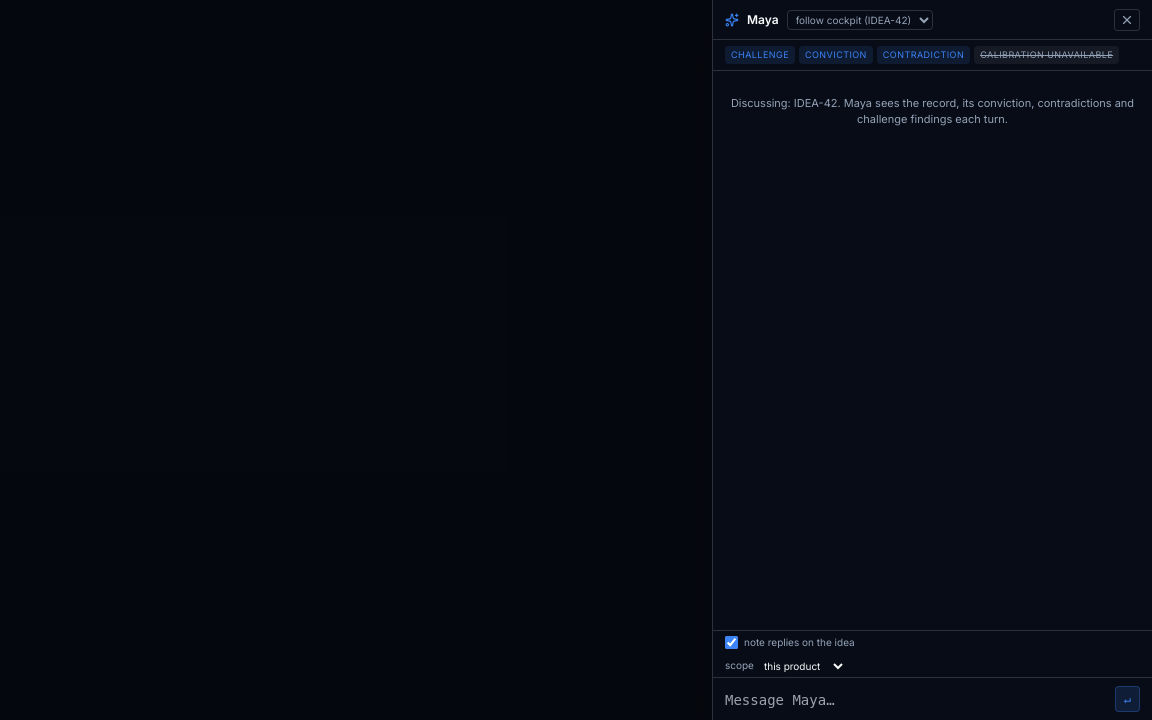
Scenario: FOH-7 S4 — portfolio scope is read-only in the panel, not just on the server › disables the write-back toggle and shows it unchecked
The width and height of the screenshot is (1152, 720).
Select "every product" in the dropdown with test id "scope-select": point(803, 666) x1=760 y1=658 x2=846 y2=672
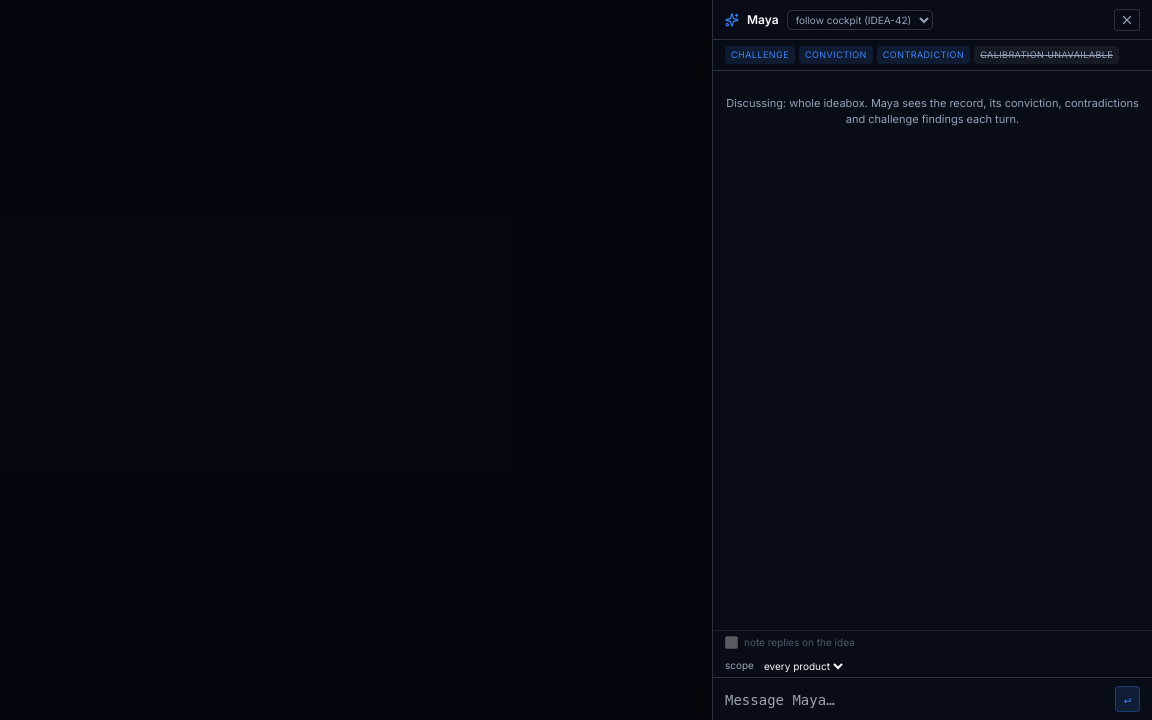
Result: the checkbox with test id "writeback-toggle" is disabled at x1=725 y1=636 x2=738 y2=649
Result: the checkbox with test id "writeback-toggle" is not checked at x1=725 y1=636 x2=738 y2=649
